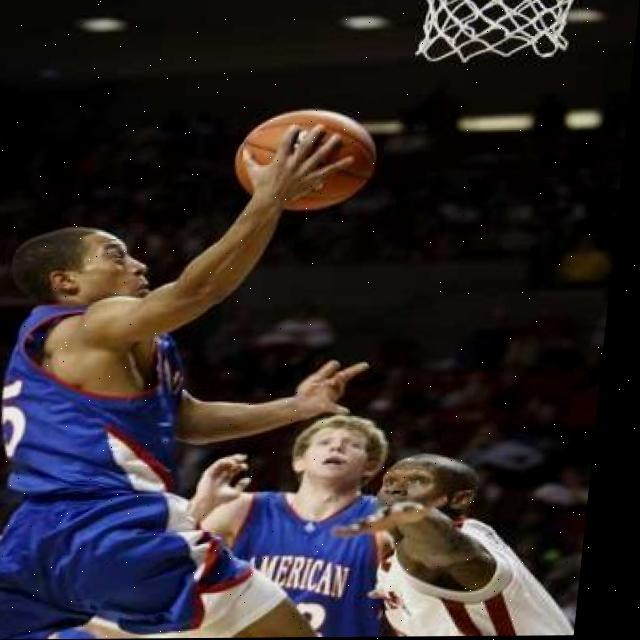basketball: (230, 104, 384, 214)
hoop: (411, 0, 580, 67)
